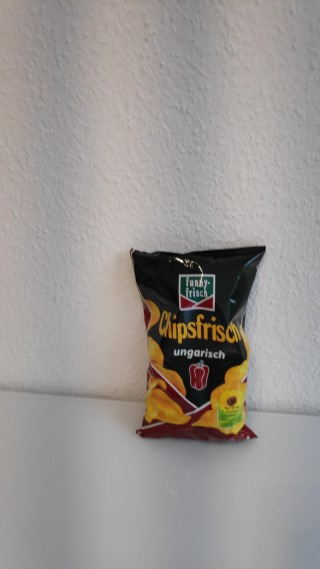chipsfrisch: (128, 243, 267, 443)
